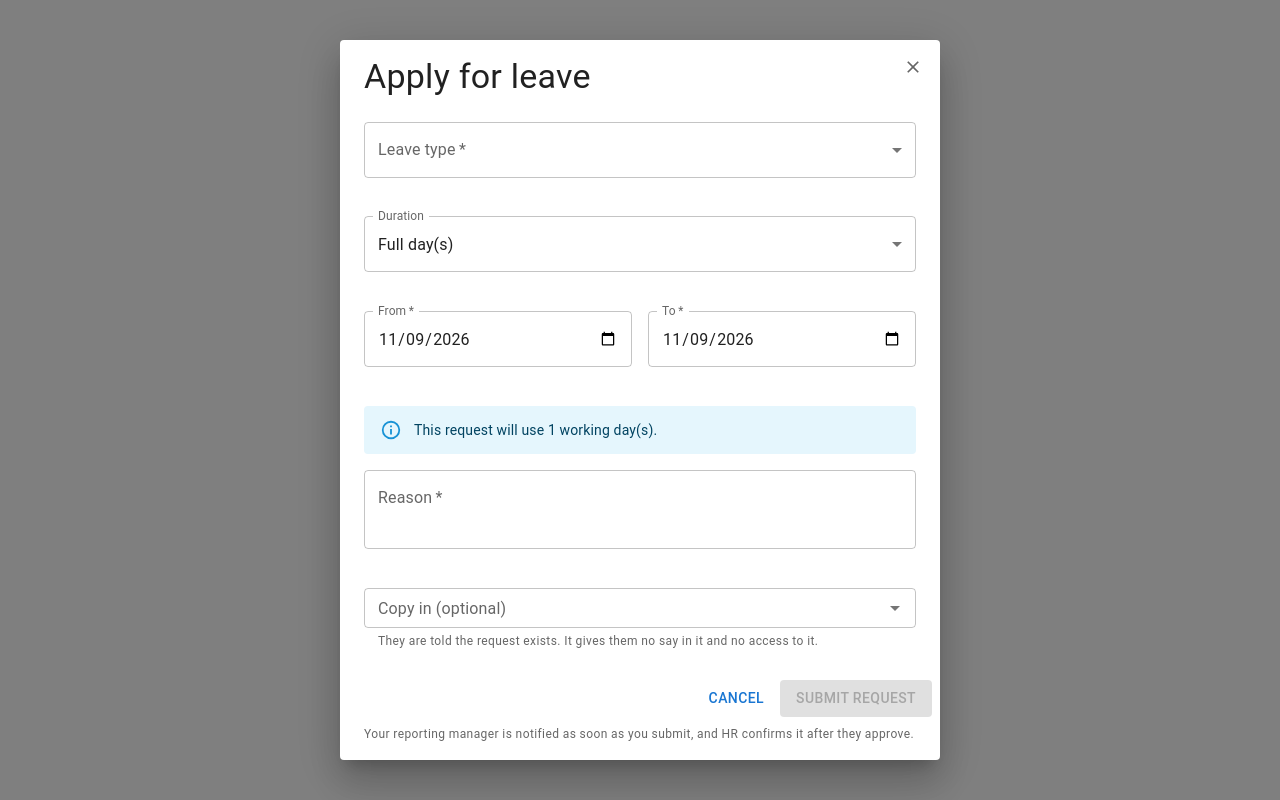
Test: ApplyLeaveDialog leave types › offers Loss of Pay as unpaid, not as zero days available
The image size is (1280, 800).
Click the dropdown named "leave type".
click(640, 150)  # box [364,122,916,178]
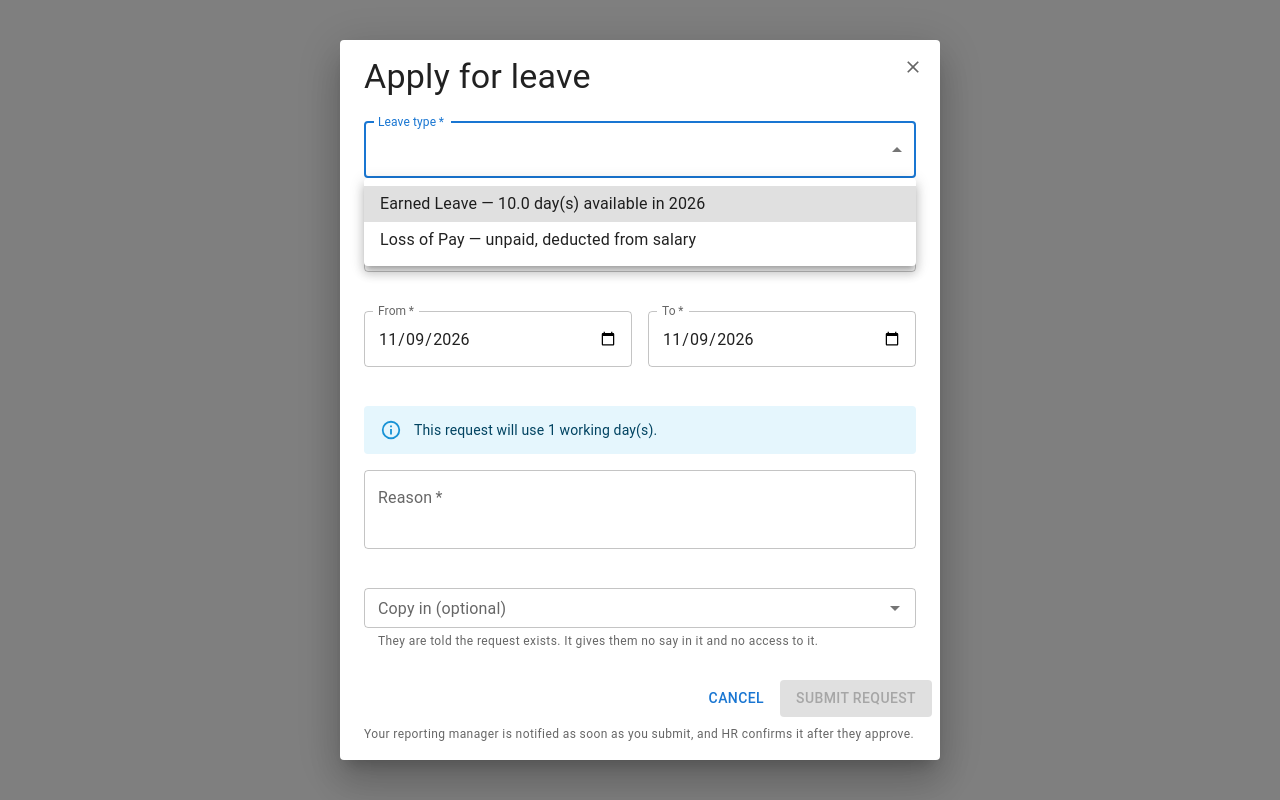
Expected: the option does not show "available"
Now the option "Loss of Pay — unpaid, deducted from salary" is shown, box [380,230,696,249]
